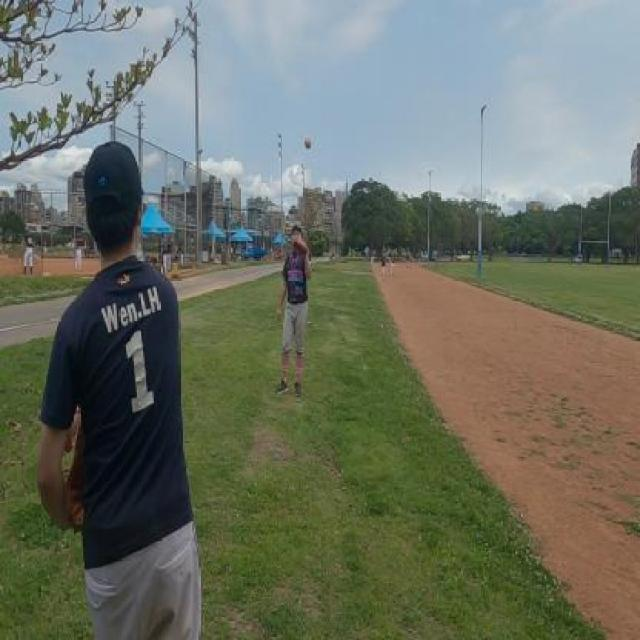baseball: (304, 136, 311, 150)
